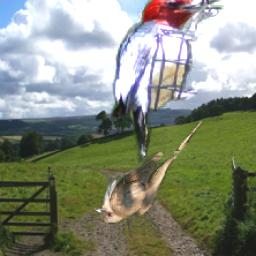Cuckoo: (93, 120, 203, 225)
Woodpecker: (111, 0, 226, 164)
